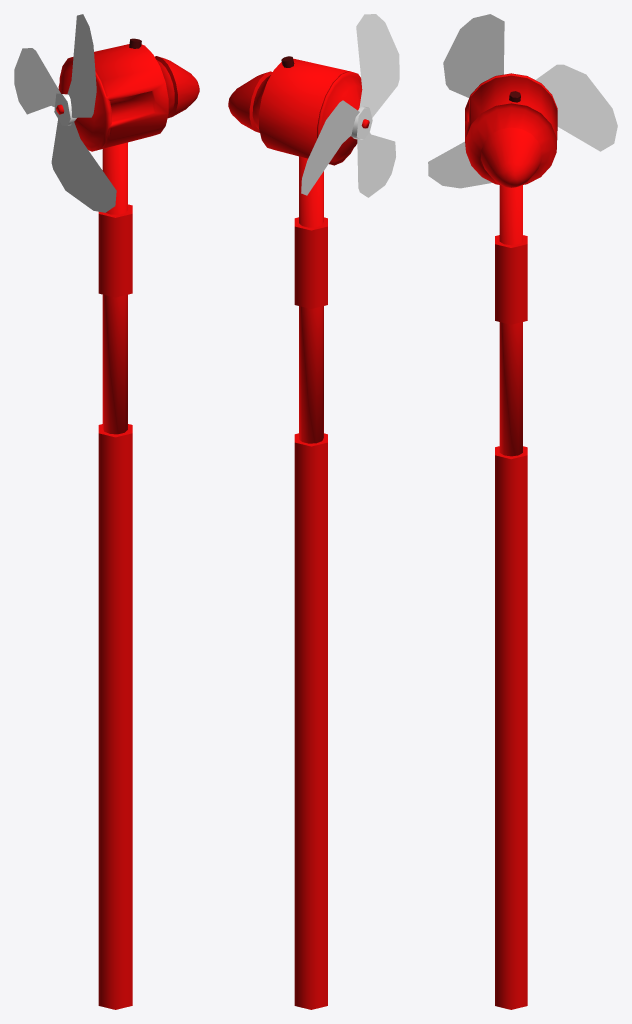
File: fan.fbx
3 views of the same model, side by side, from view 1: azimuth 30°, elevation 25°; view 2: azimuth 150°, elevation 25°; view 3: azimuth 270°, elevation 25° (orthographic). The views are drawn at different scales.
Visible parts, largest first — view 1: Object01, REF:FAN; view 2: Object01, REF:FAN; view 3: Object01, REF:FAN.
Part boxes in pixels (x1,y1,x2,y2): Object01: [56, 44, 199, 1009]; REF:FAN: [14, 14, 116, 212]; Object01: [228, 58, 369, 1009]; REF:FAN: [301, 14, 399, 197]; Object01: [465, 73, 557, 1009]; REF:FAN: [428, 14, 617, 188].
Size of the model in its own units: 128 by 882 by 157.
